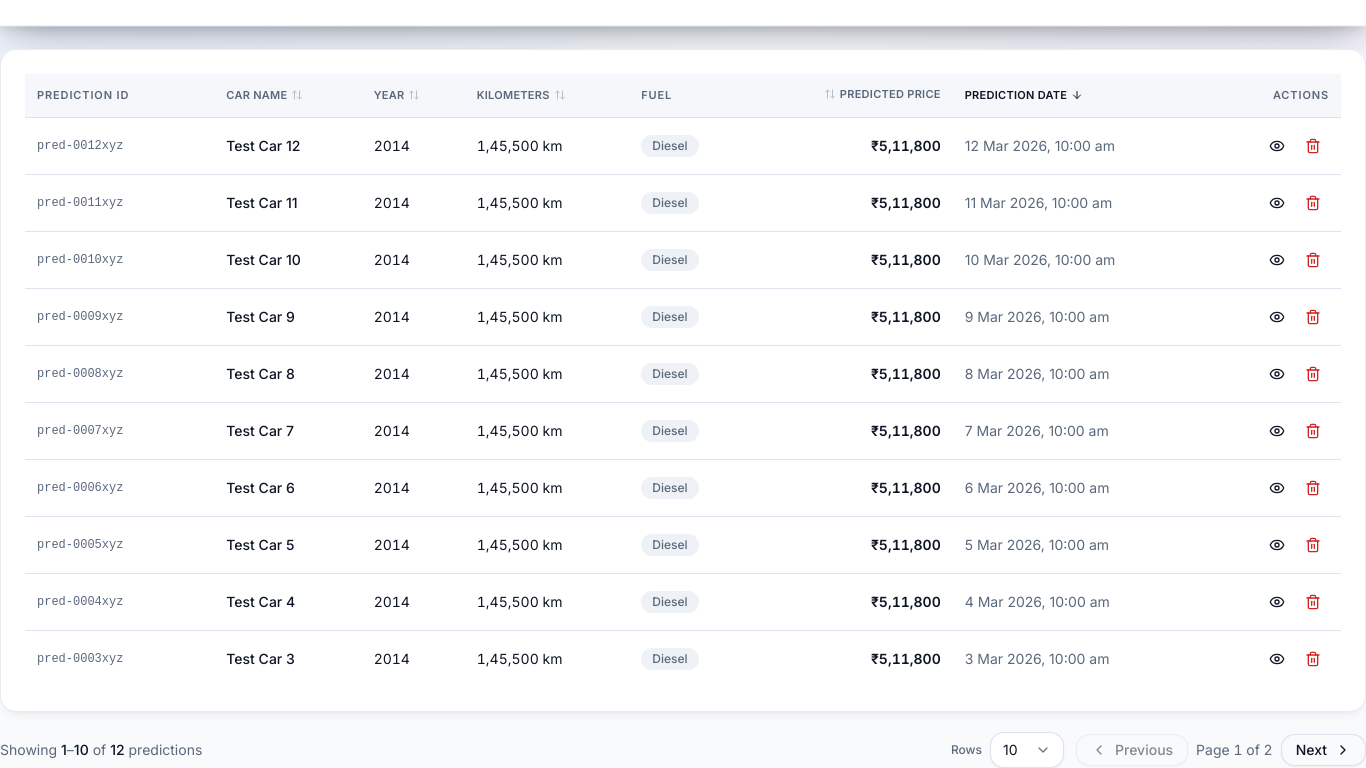
Test: sorting and pagination › pages through more records than one page holds
(page scrolled)
Expected: the text "Test Car 12" is shown, top-left (214, 118), bottom-right (362, 174)
Expected: the text "Page 1 of 2" is shown, top-left (1196, 740), bottom-right (1273, 760)
Click the button "Next". click: [1323, 750]
box: top-left (1281, 734), bottom-right (1365, 766)
(page scrolled)
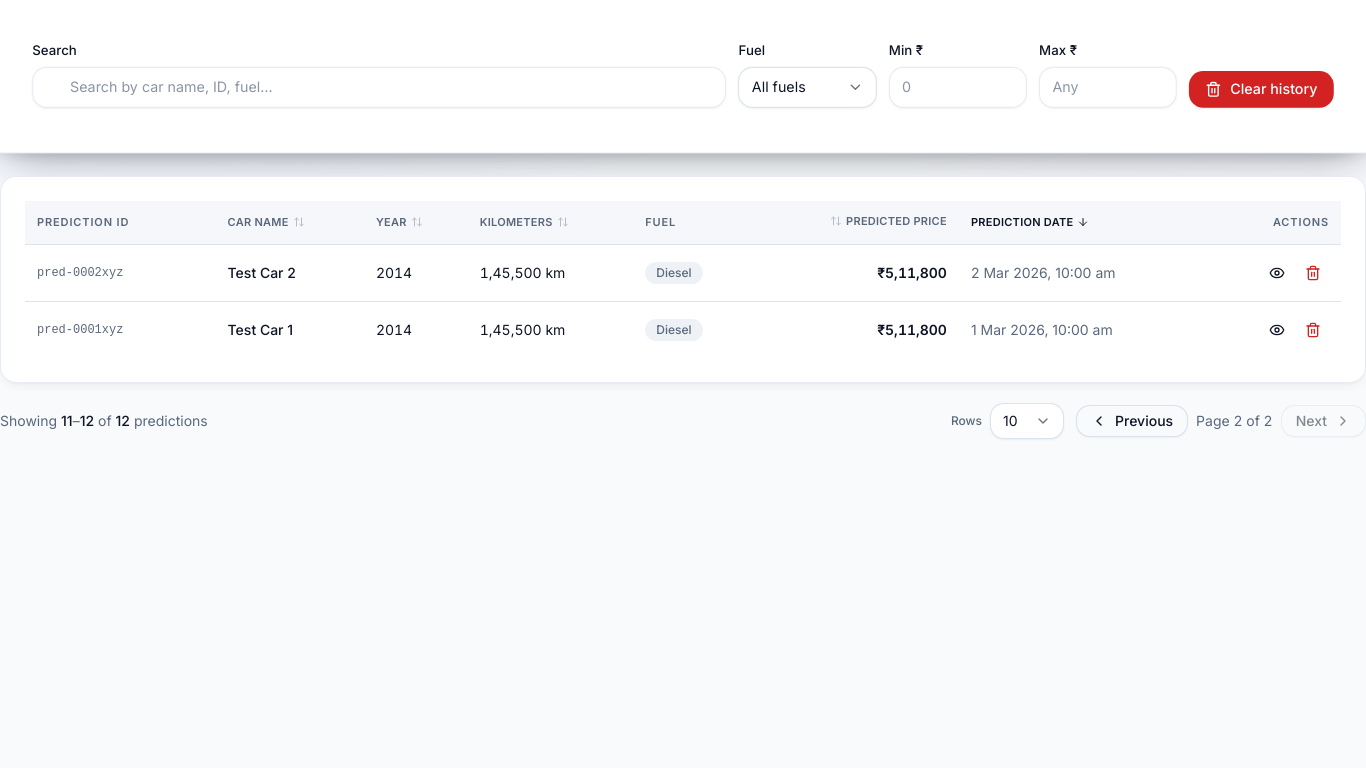
Expected: the text "Test Car 1" is shown, top-left (216, 302), bottom-right (364, 358)
Result: the text "Page 2 of 2" is shown at top-left (1196, 411), bottom-right (1273, 431)
